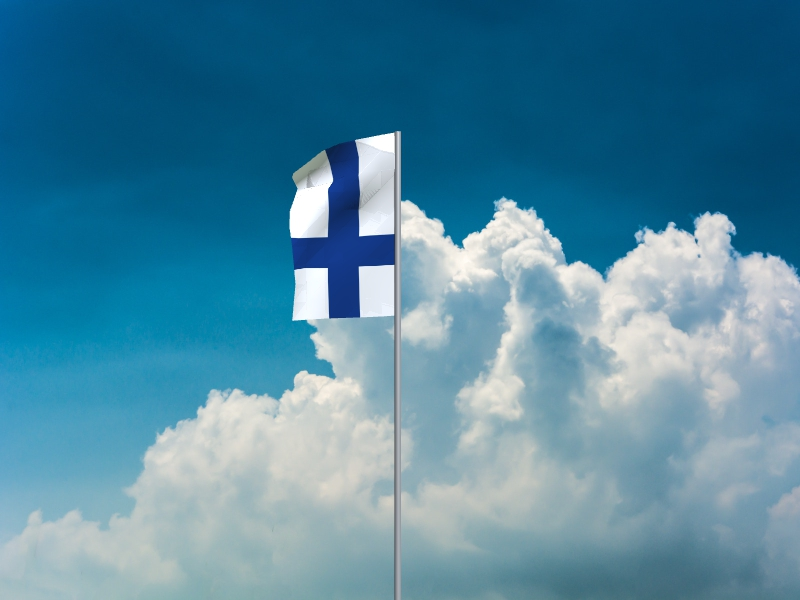fi: (289, 133, 395, 323)
